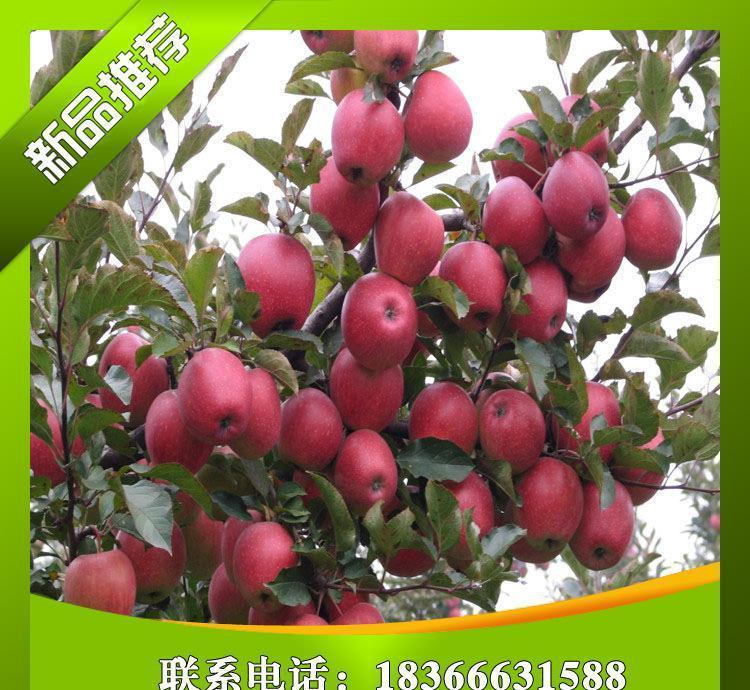apple: (236, 232, 316, 333), (340, 271, 419, 371), (513, 456, 585, 562), (371, 189, 447, 288), (331, 87, 404, 188), (178, 347, 250, 441), (307, 158, 379, 251), (403, 70, 474, 163), (97, 331, 171, 417), (117, 519, 188, 606), (234, 519, 299, 614), (555, 209, 627, 294), (568, 479, 635, 570), (330, 349, 405, 430), (483, 176, 549, 268), (146, 388, 217, 473), (543, 152, 610, 241), (476, 388, 547, 471), (440, 241, 505, 331), (279, 388, 344, 473), (334, 430, 399, 515), (411, 379, 477, 461), (61, 546, 138, 614), (508, 259, 566, 344), (228, 367, 280, 460), (622, 188, 682, 268), (354, 32, 419, 83)
